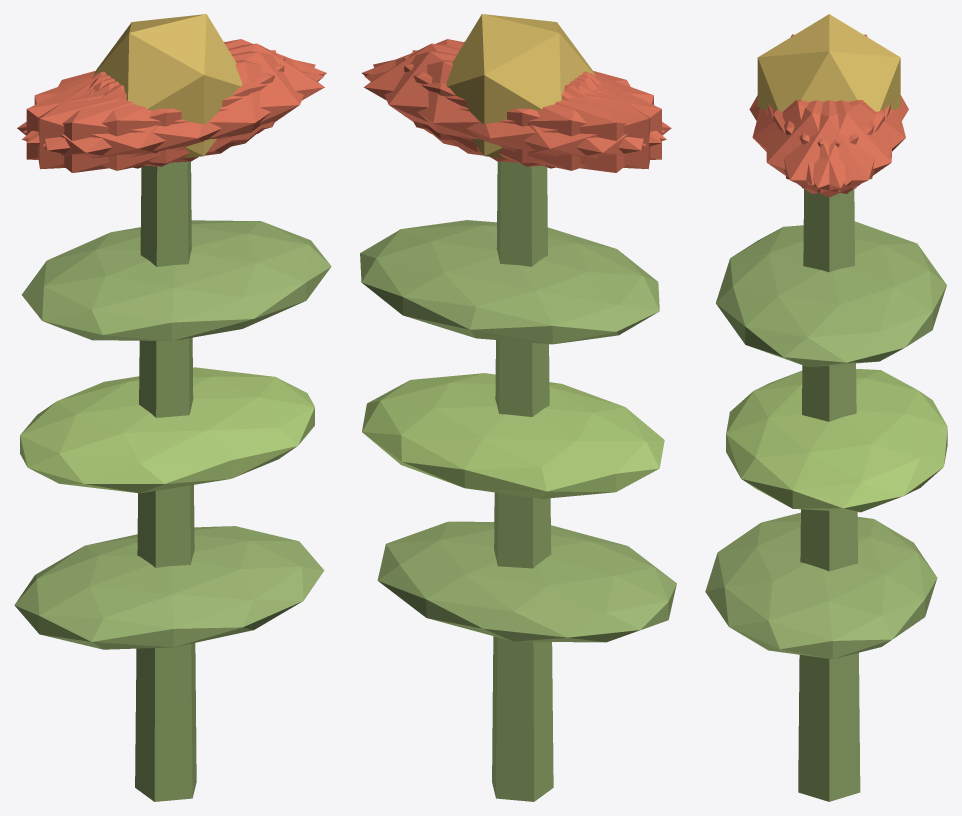
The model's file is abroma-augustum.glb.
The picture shows the model from 3 angles, left to right: view 1: azimuth 30°, elevation 25°; view 2: azimuth 150°, elevation 25°; view 3: azimuth 270°, elevation 25°; orthographic projection.
Visible parts, largest first — view 1: leaf0, leaf2, leaf1, stem, center, petal1, petal6, petal2, petal5, petal7, petal0, petal4 (+2 smaller); view 2: leaf1, leaf2, leaf0, stem, center, petal8, petal3, petal7, petal4, petal2, petal0, petal5 (+2 smaller); view 3: leaf2, leaf1, leaf0, stem, center, petal0, petal4, petal5, petal8, petal1.
Boxes of the visible parts, bbox=[...] form: leaf0: bbox=[14, 526, 324, 649]; leaf2: bbox=[21, 220, 331, 340]; leaf1: bbox=[20, 367, 314, 493]; stem: bbox=[135, 161, 196, 801]; center: bbox=[93, 14, 242, 158]; petal1: bbox=[22, 60, 323, 170]; petal6: bbox=[17, 73, 235, 172]; petal2: bbox=[38, 50, 276, 169]; petal5: bbox=[42, 51, 315, 163]; petal7: bbox=[26, 56, 284, 166]; petal0: bbox=[93, 43, 324, 152]; petal4: bbox=[23, 39, 326, 143]; leaf1: bbox=[362, 373, 664, 498]; leaf2: bbox=[360, 220, 659, 344]; leaf0: bbox=[377, 521, 676, 642]; stem: bbox=[492, 161, 553, 801]; center: bbox=[446, 14, 595, 158]; petal8: bbox=[364, 60, 666, 170]; petal3: bbox=[453, 73, 671, 172]; petal7: bbox=[412, 50, 650, 169]; petal4: bbox=[373, 51, 645, 163]; petal2: bbox=[403, 56, 661, 166]; petal0: bbox=[363, 43, 595, 152]; petal5: bbox=[362, 39, 665, 143]; leaf2: bbox=[716, 221, 946, 366]; leaf1: bbox=[726, 369, 947, 512]; leaf0: bbox=[705, 512, 937, 659]; stem: bbox=[798, 189, 860, 801]; center: bbox=[757, 14, 900, 111]; petal0: bbox=[768, 100, 890, 197]; petal4: bbox=[773, 100, 892, 193]; petal5: bbox=[766, 100, 884, 193]; petal8: bbox=[784, 100, 905, 185]; petal1: bbox=[752, 100, 874, 185].
Bounding box in the file's own units: 0.1452 × 0.3572 × 0.1039.
